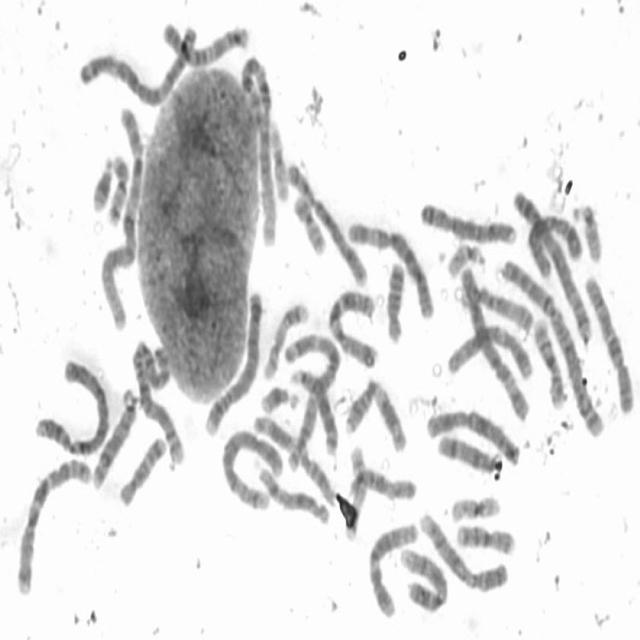A1: (100, 107, 144, 330), (240, 54, 276, 246)
A2: (500, 258, 604, 437), (132, 339, 186, 466)
A3: (79, 25, 198, 106), (284, 332, 342, 470)
B4: (205, 289, 262, 436), (35, 359, 110, 456)
B5: (514, 191, 590, 345), (222, 430, 282, 509)
C10: (584, 274, 634, 413), (163, 22, 249, 67)
C11: (252, 415, 335, 508), (346, 377, 406, 452)
C12: (448, 324, 533, 380), (369, 522, 418, 618)
C6: (460, 266, 529, 422), (347, 221, 433, 318)
C7: (16, 458, 93, 596), (328, 288, 378, 368)
C8: (286, 161, 368, 287), (419, 203, 516, 245)
C9: (418, 513, 508, 592), (398, 546, 448, 612)
D13: (91, 388, 137, 490), (290, 368, 338, 457)
D14: (259, 468, 329, 526), (437, 435, 495, 474)
D15: (460, 284, 534, 332), (348, 467, 416, 501)
E16: (533, 317, 569, 411), (456, 524, 514, 554)
E17: (263, 303, 309, 378), (345, 444, 367, 540)
E18: (119, 436, 167, 505), (386, 262, 406, 343)
F19: (269, 120, 288, 203), (451, 494, 502, 524)
F20: (293, 194, 326, 254), (108, 155, 130, 226)
G21: (92, 156, 114, 214), (260, 384, 299, 414)
G22: (572, 204, 601, 262), (448, 242, 487, 278)
X: (426, 409, 520, 466), (527, 214, 582, 277)
